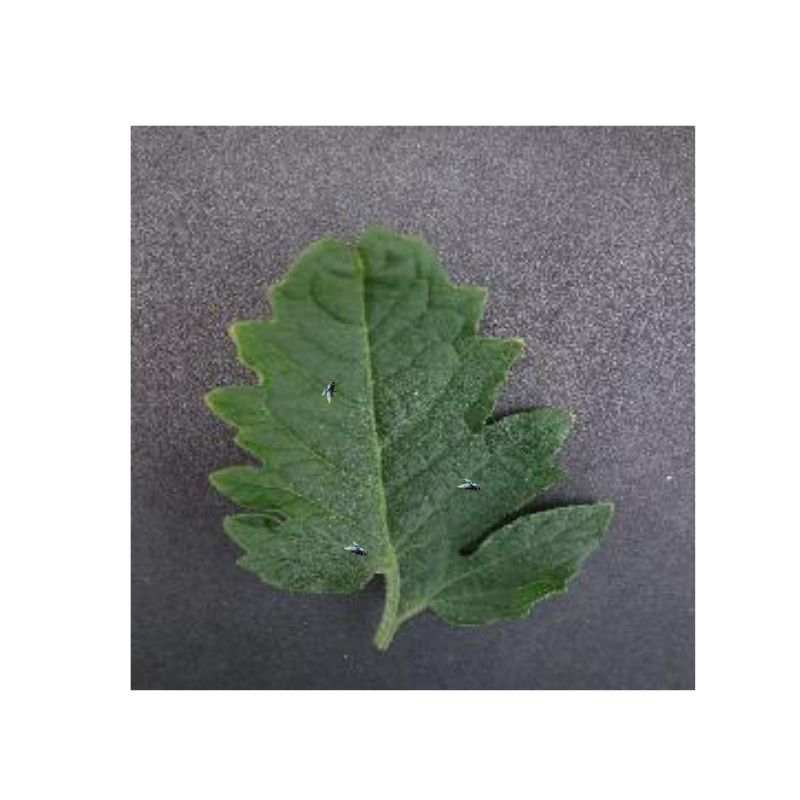liriomyza: (344, 539, 369, 560), (319, 378, 339, 404), (457, 475, 481, 494)
